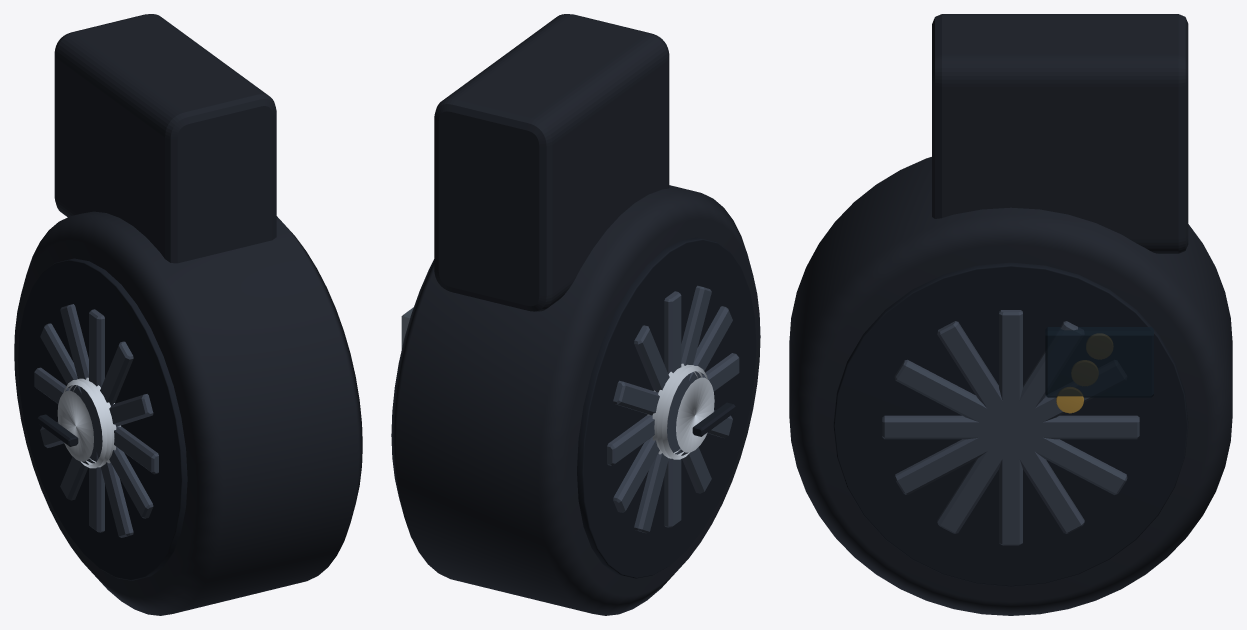
Rendered from attach_drumfeed.glb.
The picture shows the model from 3 angles, left to right: view 1: azimuth 30°, elevation 25°; view 2: azimuth 150°, elevation 25°; view 3: azimuth 270°, elevation 25°; orthographic projection. The views are drawn at different scales.
Visible parts, largest first — view 1: attach_drumfeed_drum, attach_drumfeed_tower, attach_drumfeed_face-1, attach_drumfeed, attach_drumfeed_dial, attach_drumfeed_dial_arm; view 2: attach_drumfeed_drum, attach_drumfeed_tower, attach_drumfeed_face-1, attach_drumfeed, attach_drumfeed_dial, attach_drumfeed_dial_arm; view 3: attach_drumfeed_drum, attach_drumfeed_face1, attach_drumfeed_tower, attach_drumfeed, attach_drumfeed_window.
Boxes of the visible parts, box(x1,y1,x2,y2) form: attach_drumfeed_drum: box(14, 211, 362, 615); attach_drumfeed_tower: box(54, 14, 276, 263); attach_drumfeed_face-1: box(18, 258, 187, 580); attach_drumfeed: box(34, 304, 158, 537); attach_drumfeed_dial: box(57, 377, 120, 468); attach_drumfeed_dial_arm: box(37, 414, 78, 446); attach_drumfeed_drum: box(391, 185, 760, 615); attach_drumfeed_tower: box(434, 14, 669, 311); attach_drumfeed_face-1: box(577, 237, 756, 578); attach_drumfeed: box(607, 285, 739, 533); attach_drumfeed_dial: box(647, 363, 714, 459); attach_drumfeed_dial_arm: box(692, 402, 735, 436); attach_drumfeed_drum: box(789, 157, 1232, 615); attach_drumfeed_face1: box(833, 262, 1188, 586); attach_drumfeed_tower: box(932, 14, 1188, 253); attach_drumfeed: box(882, 310, 1139, 545); attach_drumfeed_window: box(1045, 327, 1153, 397).
Size of the model in its own units: 0.0595 by 0.122 by 0.09.
